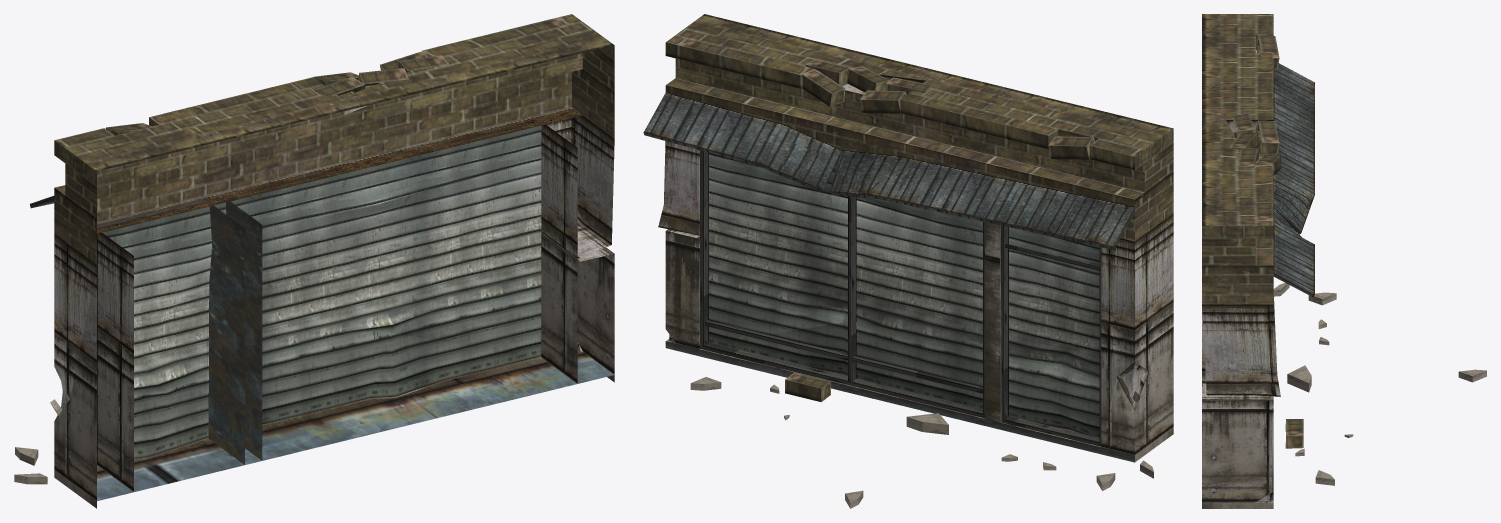
Rendered from Store_front_1_A.fbx.
3 renders of one model, left to right at view 1: azimuth 30°, elevation 25°; view 2: azimuth 150°, elevation 25°; view 3: azimuth 270°, elevation 25°, orthographic. The views are drawn at different scales.
Visible parts, largest first — view 1: Store_front_1_A; view 2: Store_front_1_A; view 3: Store_front_1_A.
Part boxes in pixels (x1,y1,x2,y2): Store_front_1_A: (14, 14, 614, 508); Store_front_1_A: (643, 14, 1173, 508); Store_front_1_A: (1202, 14, 1486, 508).
Size of the model in its own units: 747 by 446 by 398.
